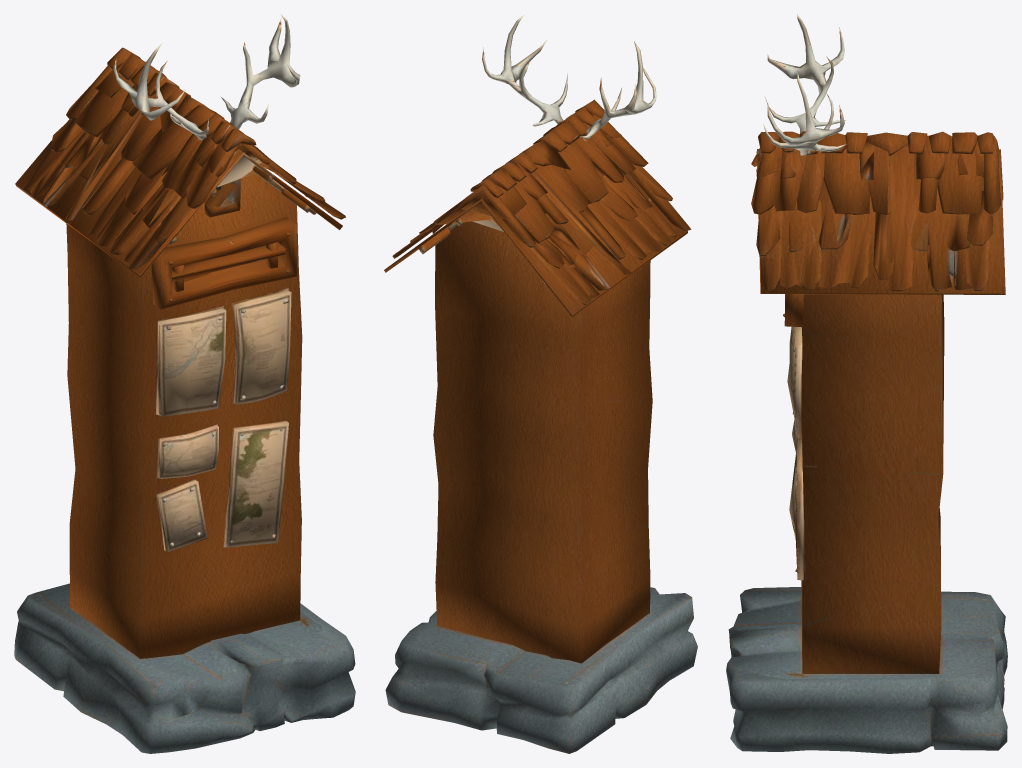
File: trophyBoard.glb
3 renders of one model, left to right at view 1: azimuth 30°, elevation 25°; view 2: azimuth 150°, elevation 25°; view 3: azimuth 270°, elevation 25°, orthographic. The views are drawn at different scales.
Size of the model in its own units: 0.3159 by 0.9521 by 0.3681.
Materials: 1 (1 with a texture image).
